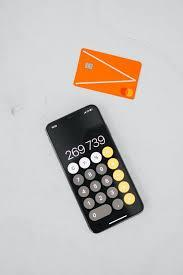Calculator: (59, 131, 139, 227)
